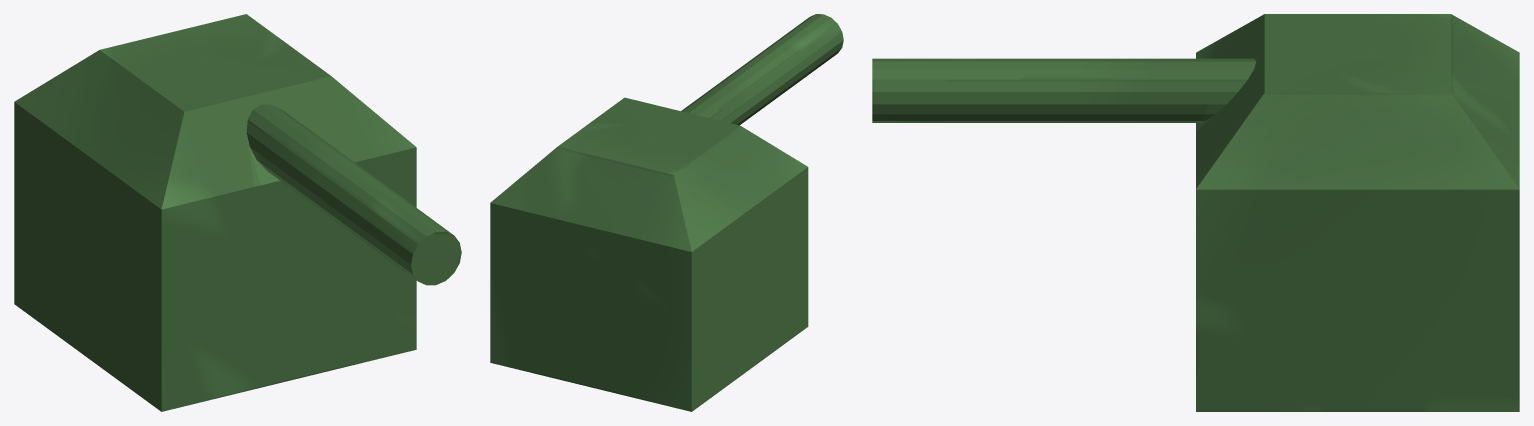
The model's file is bmp1turret.fbx.
The picture shows the model from 3 angles, left to right: view 1: azimuth 30°, elevation 25°; view 2: azimuth 150°, elevation 25°; view 3: azimuth 270°, elevation 25°; orthographic projection. The views are drawn at different scales.
Visible parts, largest first — view 1: Cube; view 2: Cube; view 3: Cube.
Boxes of the visible parts, x1,y1,x2,y2 form: Cube: (14, 14, 461, 411); Cube: (490, 14, 843, 411); Cube: (872, 14, 1519, 411).
Size of the model in its own units: 200 by 198 by 400.
